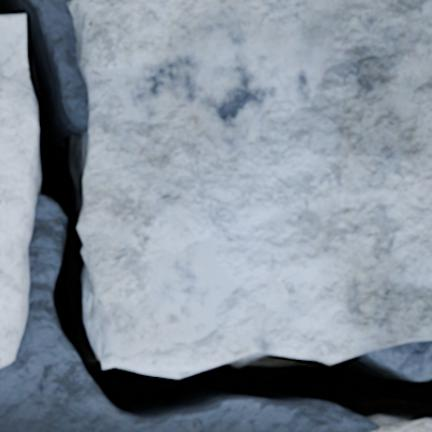brick: (68, 0, 431, 377), (0, 16, 37, 367), (377, 420, 431, 431)
crack: (0, 0, 431, 429)
